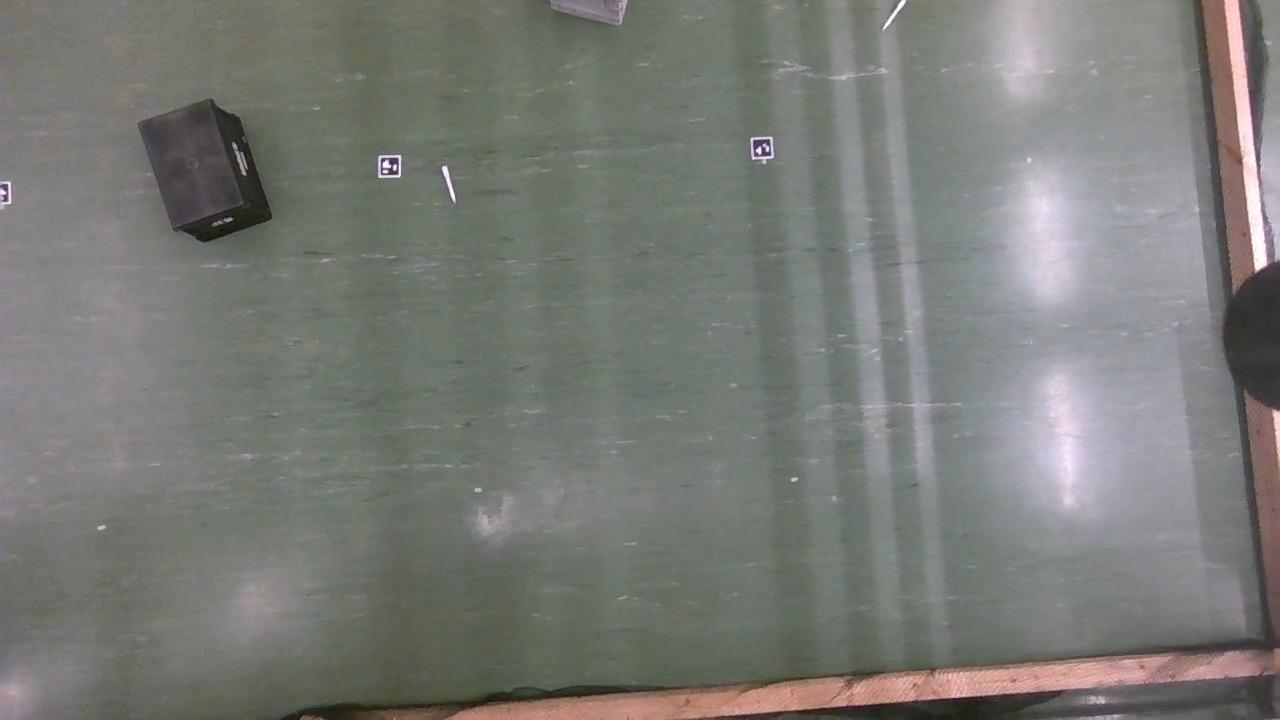probes: (884, 0, 905, 30), (444, 167, 457, 205)
rako: (139, 102, 271, 246), (546, 3, 636, 26)
